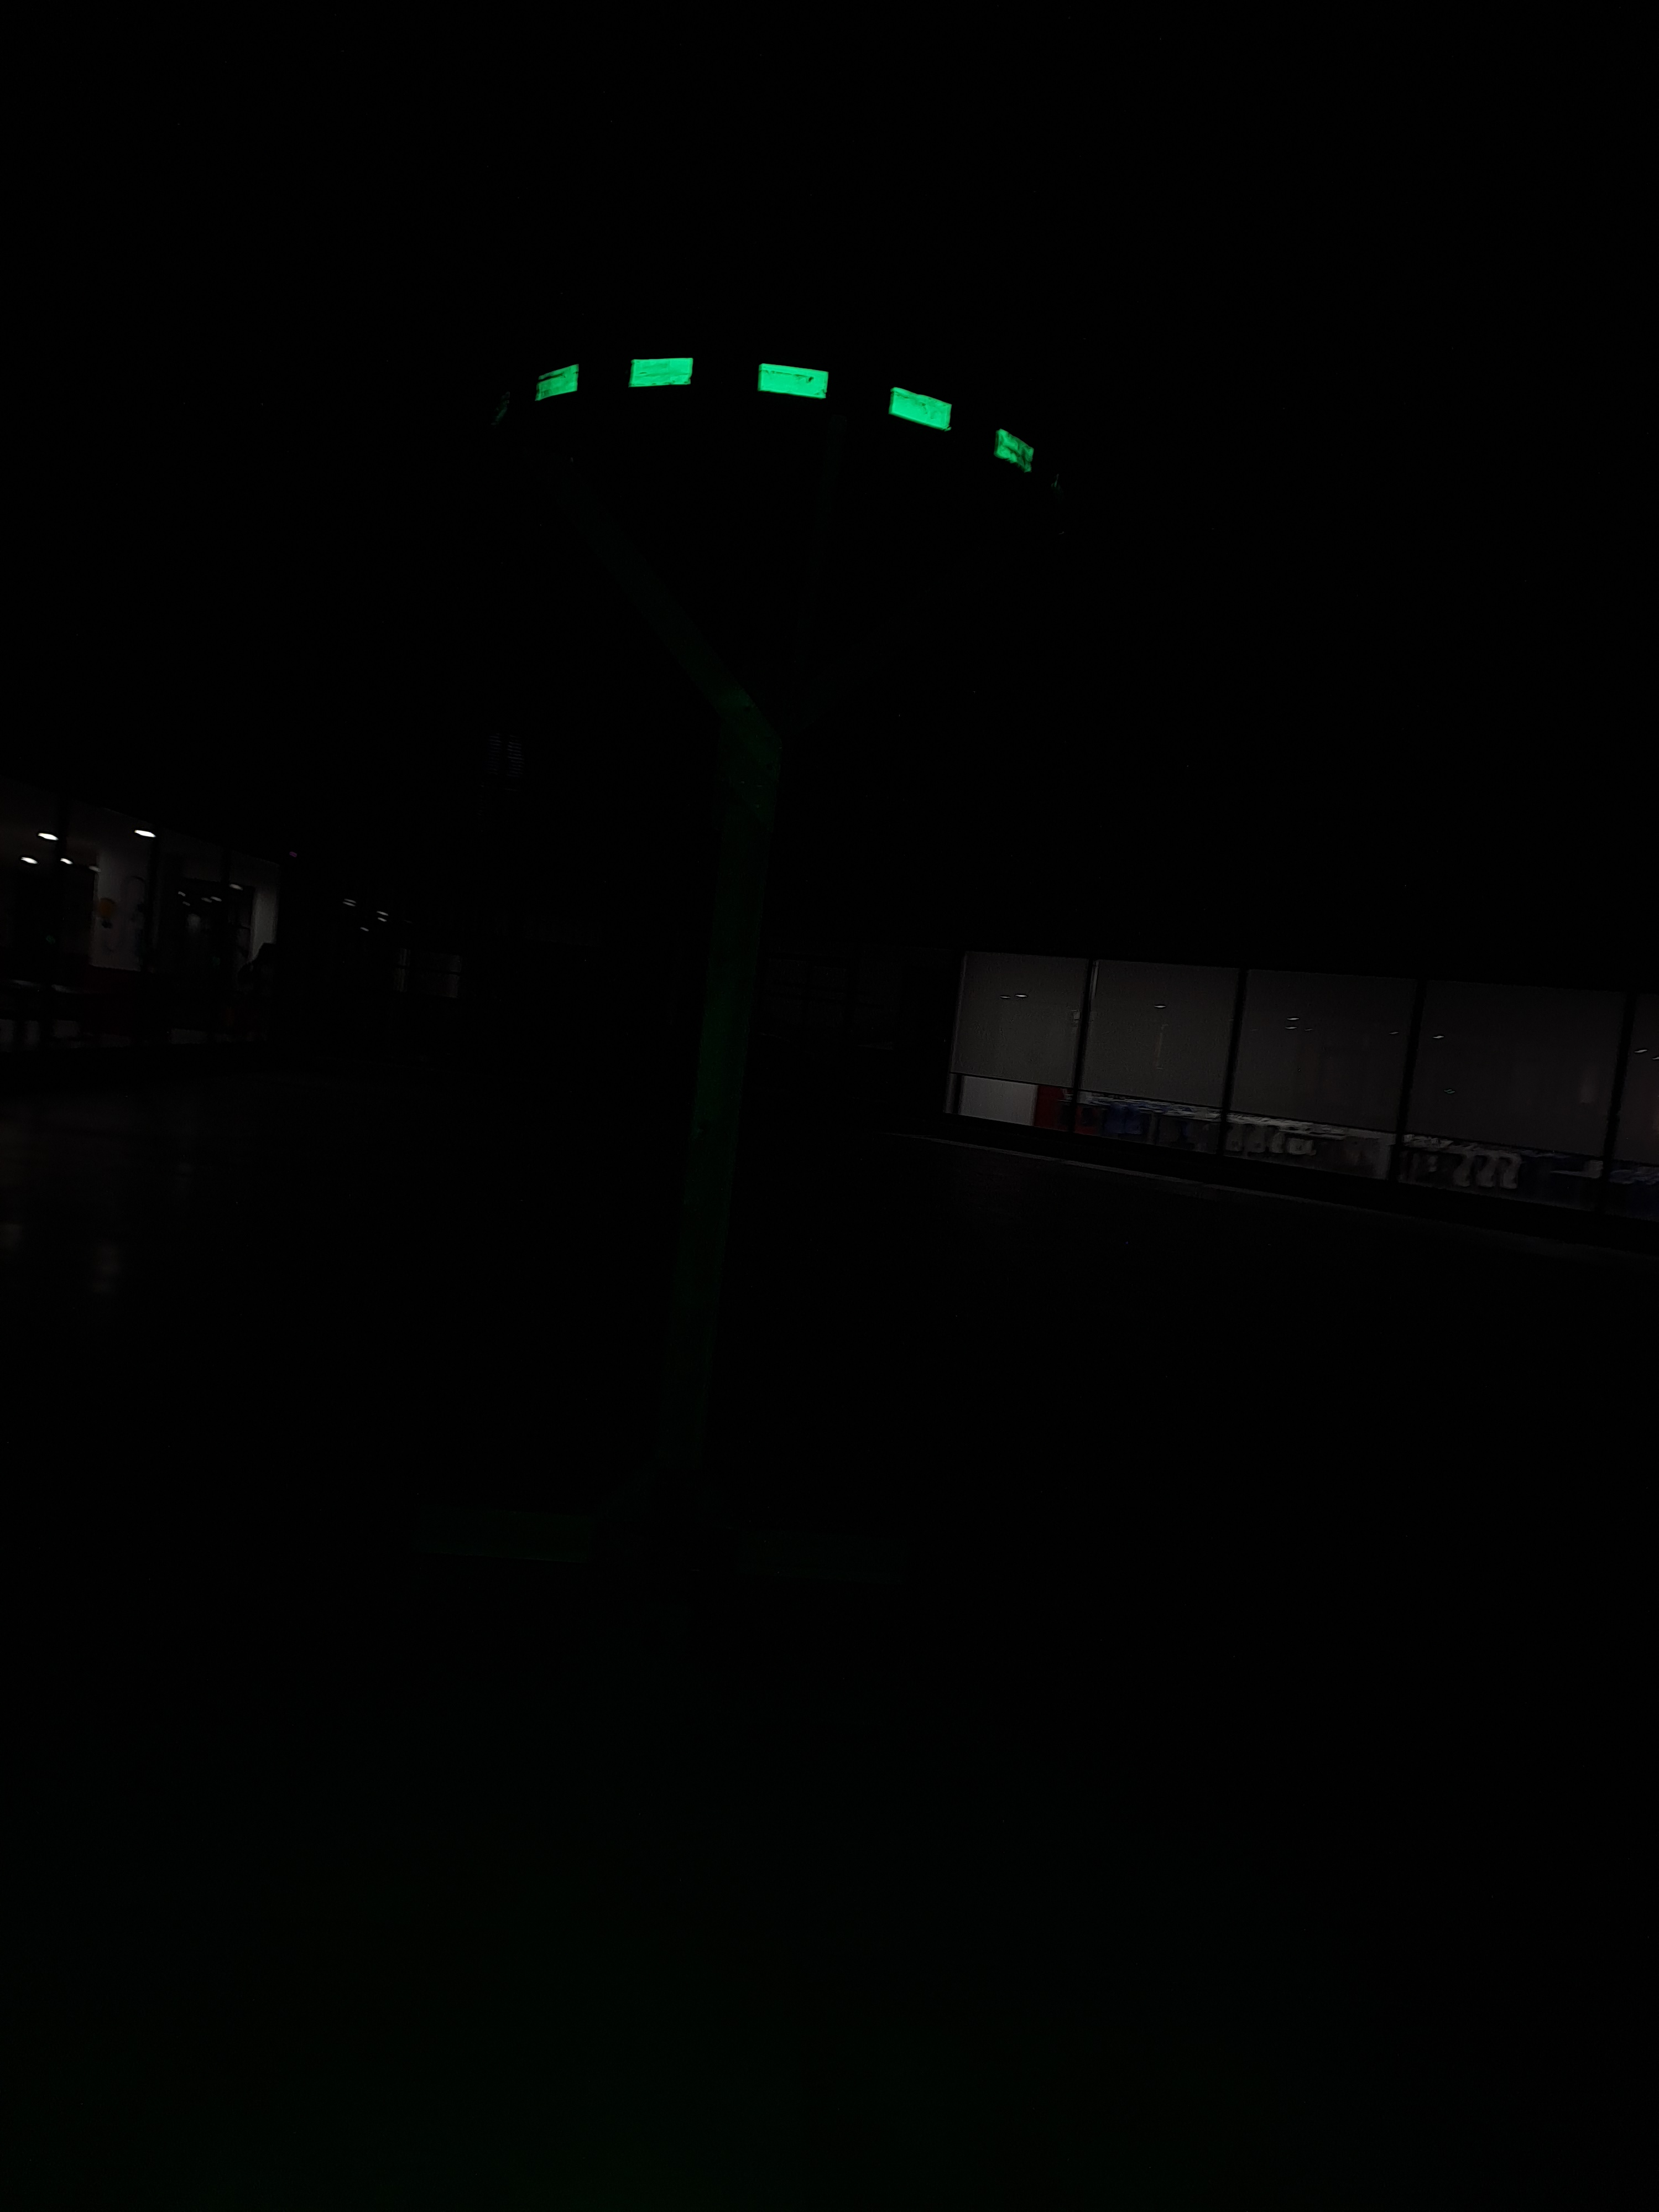hoop: (518, 338, 1040, 482)
